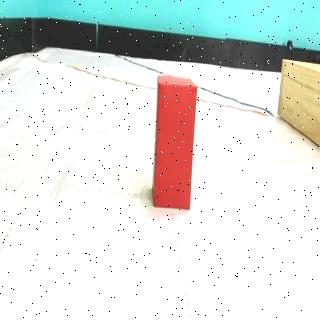redbox: (152, 74, 196, 211)
